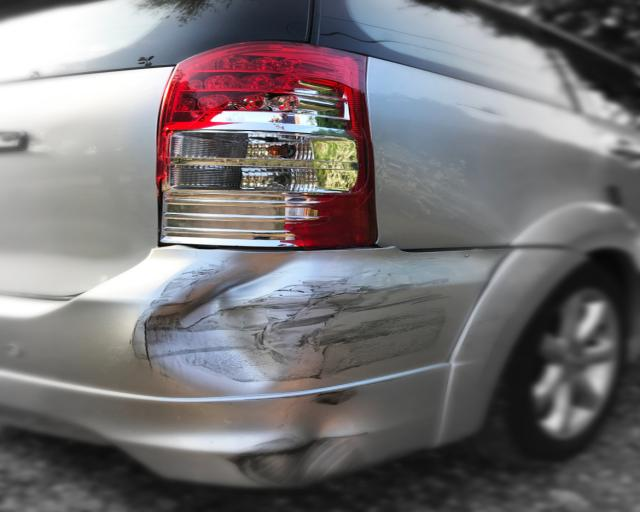dent: (142, 254, 315, 389), (291, 394, 357, 450)
lamp broken: (156, 39, 376, 250)
scratch: (282, 275, 453, 383), (127, 263, 224, 370), (225, 434, 358, 488), (326, 384, 361, 401)
